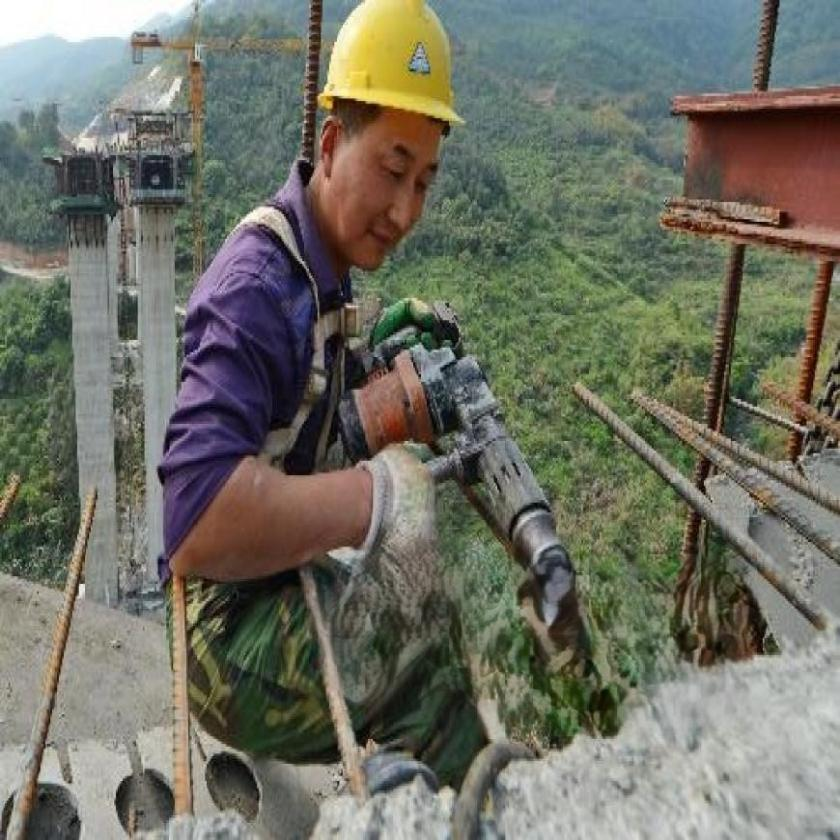Con_casco: (293, 0, 493, 264)
